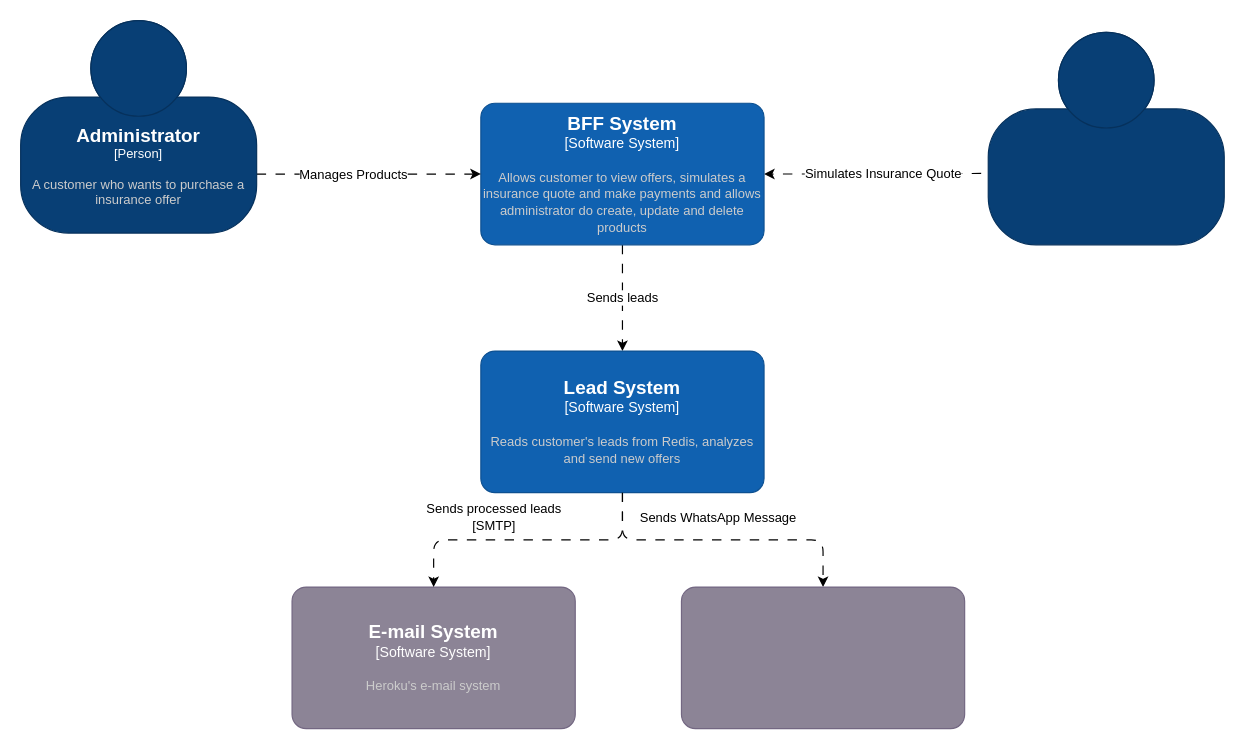
This 1245x749 diagram has some shape labels left out. Each missing label, with the centre of its shape:
Customer [Person] A customer who wants to purchase a insurance offer: point (1105, 138)
WhatsApp System [Software System] WhatsApp API System: point (822, 657)
